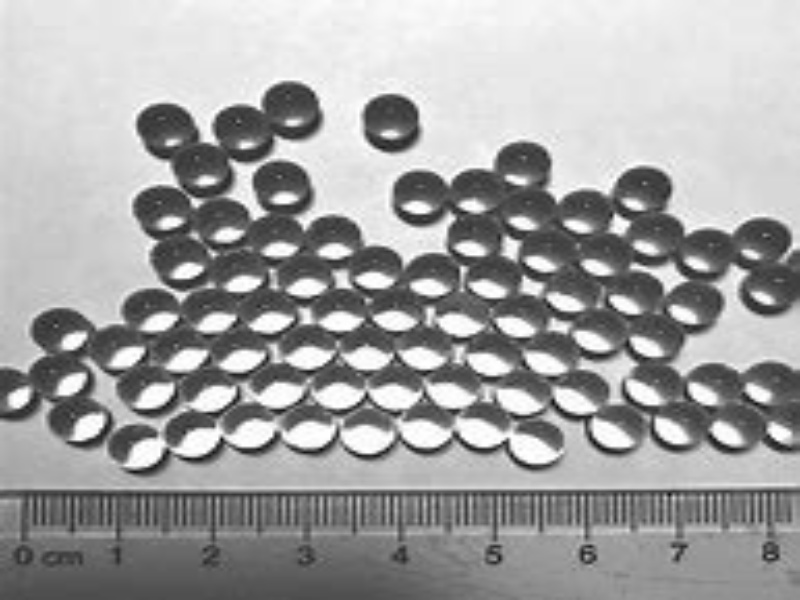bead: (87, 321, 157, 381), (438, 209, 514, 263), (495, 181, 561, 243), (206, 244, 276, 301), (569, 301, 634, 362), (240, 282, 302, 344), (152, 321, 215, 382), (48, 394, 115, 451), (337, 405, 404, 462), (706, 397, 767, 459), (171, 140, 234, 200), (311, 356, 371, 419), (104, 421, 171, 477), (261, 79, 322, 140), (246, 206, 307, 267), (276, 320, 341, 377), (464, 325, 529, 382), (245, 356, 311, 412), (584, 398, 650, 454), (549, 367, 617, 421), (279, 398, 340, 458), (26, 306, 99, 356), (426, 356, 487, 415), (369, 354, 427, 416), (448, 161, 510, 219), (134, 100, 198, 156), (465, 250, 529, 306), (731, 215, 796, 270), (337, 315, 396, 375), (603, 267, 671, 319), (211, 102, 273, 159), (540, 266, 609, 317), (676, 224, 741, 278), (434, 289, 500, 342), (392, 167, 453, 224), (153, 233, 215, 289), (117, 362, 180, 417), (406, 246, 464, 305), (492, 292, 559, 343), (506, 415, 567, 471), (26, 350, 88, 405), (131, 182, 194, 236), (519, 224, 583, 277), (663, 279, 727, 332), (623, 211, 688, 263), (218, 397, 277, 454), (631, 309, 691, 365), (557, 186, 617, 242), (495, 138, 556, 193), (611, 165, 673, 219), (398, 317, 456, 374), (398, 400, 457, 456), (457, 400, 513, 459), (740, 259, 800, 314), (626, 361, 690, 412), (253, 155, 310, 212), (186, 282, 242, 340), (367, 283, 426, 338), (361, 93, 421, 147), (518, 329, 584, 378), (191, 196, 253, 248), (306, 209, 363, 265), (652, 400, 714, 451), (165, 409, 223, 463), (122, 285, 183, 336), (577, 228, 638, 279), (349, 240, 403, 297), (176, 365, 240, 413), (744, 356, 800, 410), (276, 254, 337, 302), (687, 358, 748, 406), (310, 286, 368, 336), (496, 369, 556, 415), (1, 364, 42, 424), (768, 391, 800, 458)
